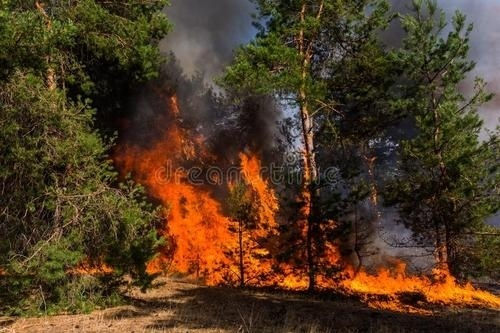fire: (114, 73, 413, 301)
